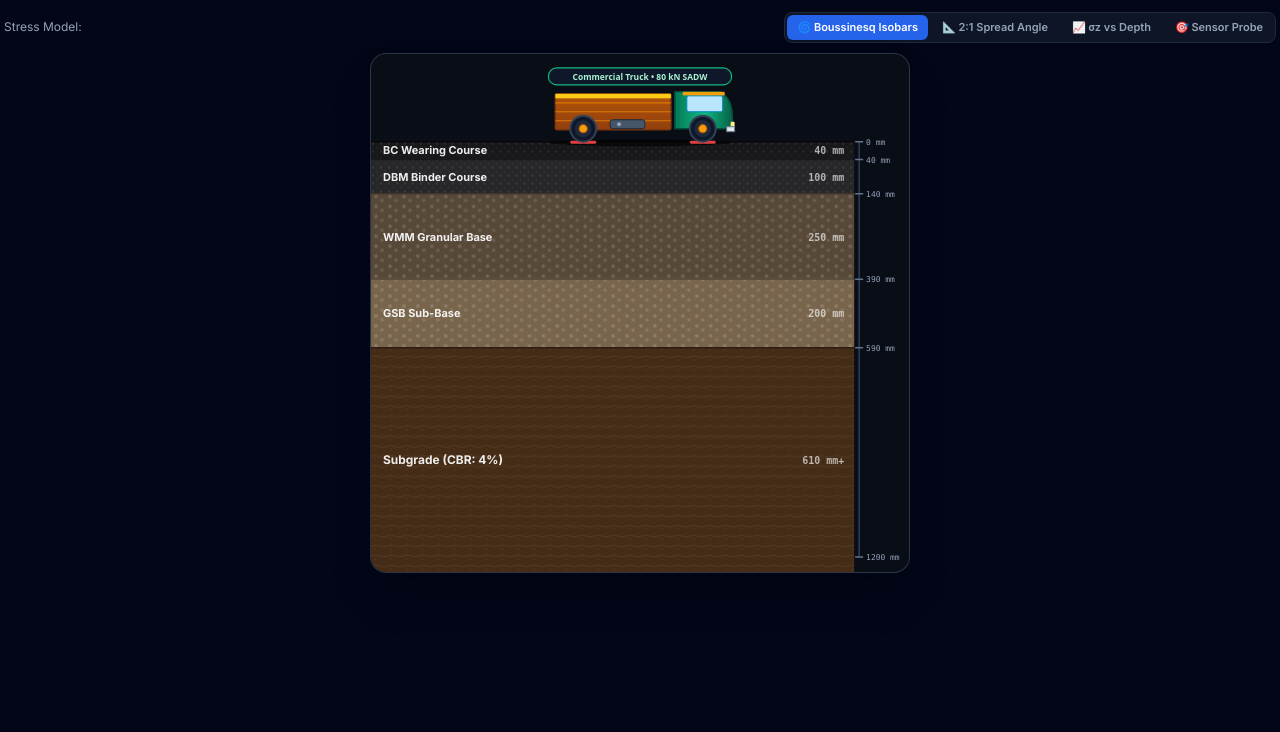
Test: PavementCrossSection Component › Animation & Stress Visualization States › switches to virtual sensor probe mode and updates sensor readout
Click the button "🎯 Sensor Probe".
click(1219, 27)  # box [1165,15,1273,40]
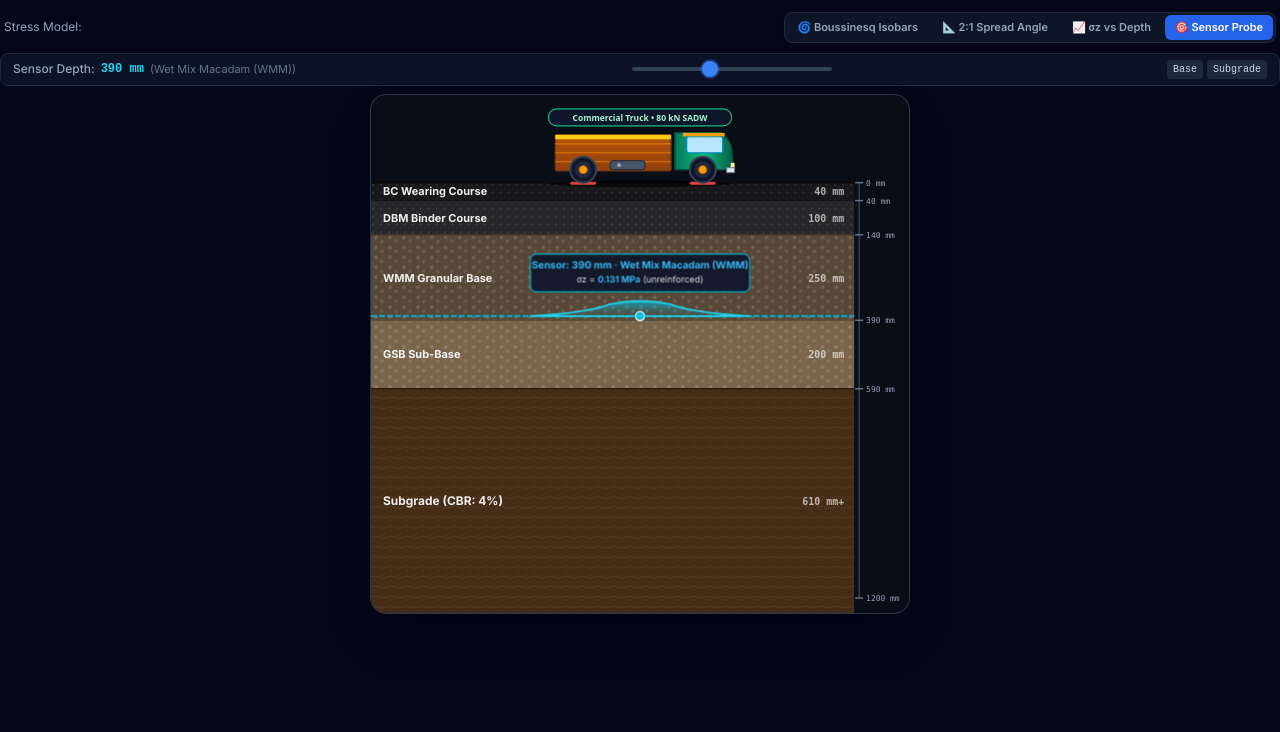
Check: the element with id "stressProbeVisualization" is shown, box [532,258,748,284]
Check: the text "Sensor Depth:" is shown, box [13,60,95,78]
